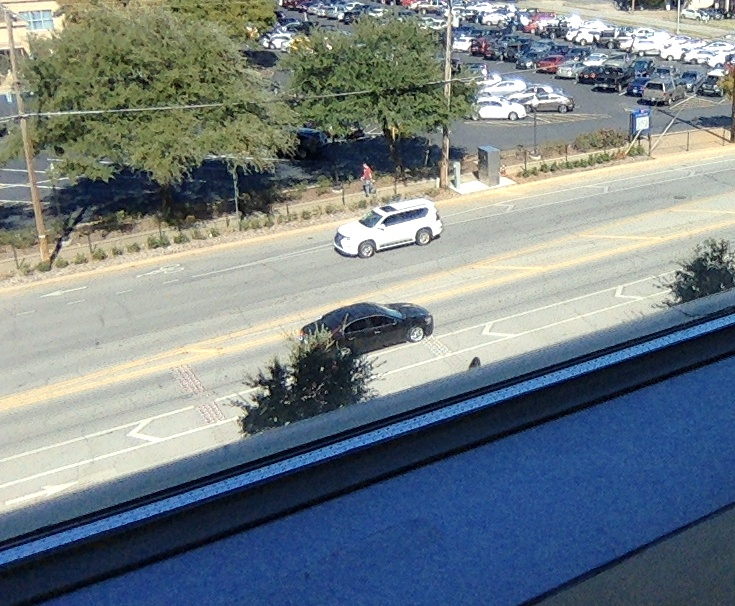car: (300, 300, 435, 358)
